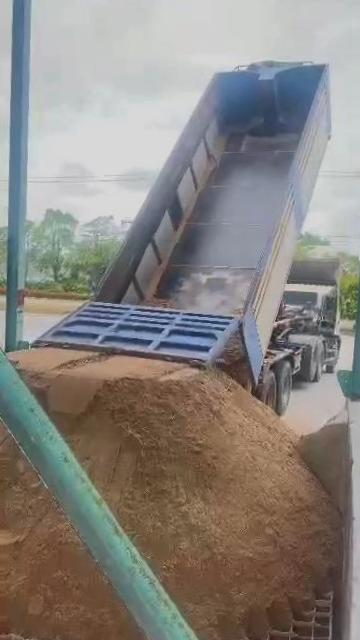sand: (12, 330, 337, 640), (0, 429, 145, 640), (297, 411, 351, 541)
